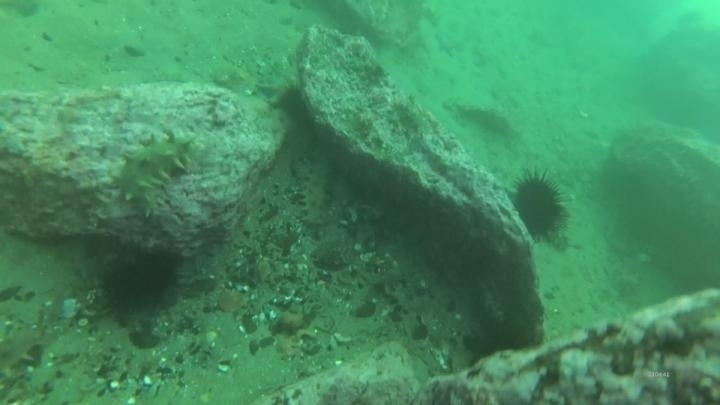echinus: (96, 243, 184, 320), (508, 169, 571, 243), (276, 84, 311, 125)
holothurian: (111, 129, 198, 222), (294, 154, 335, 230), (0, 321, 45, 380)
